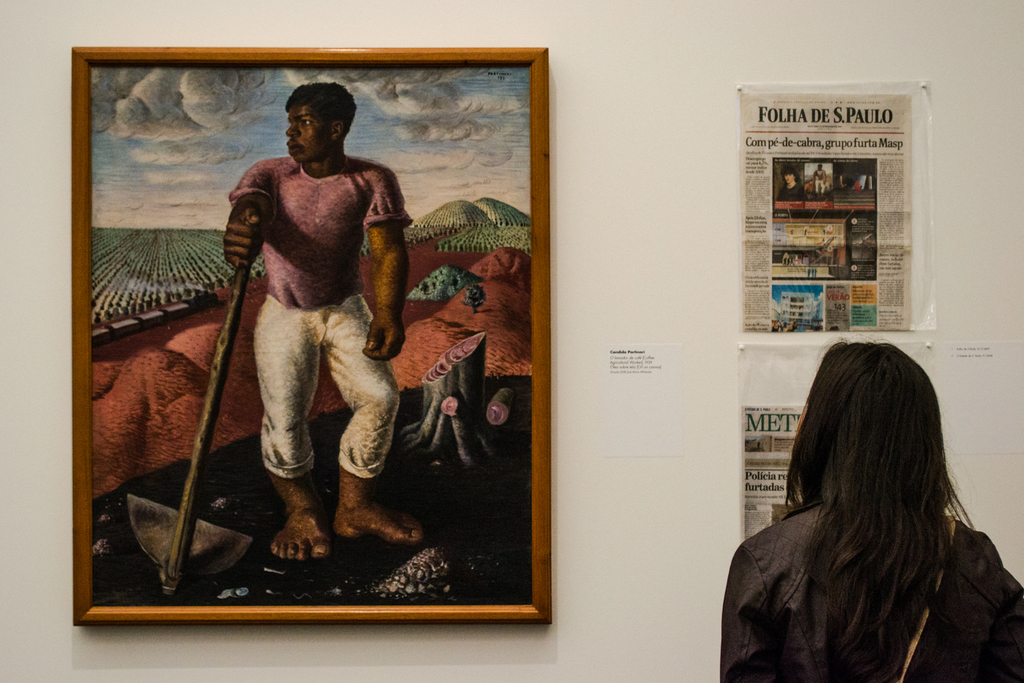Person: (721, 335, 1024, 681)
